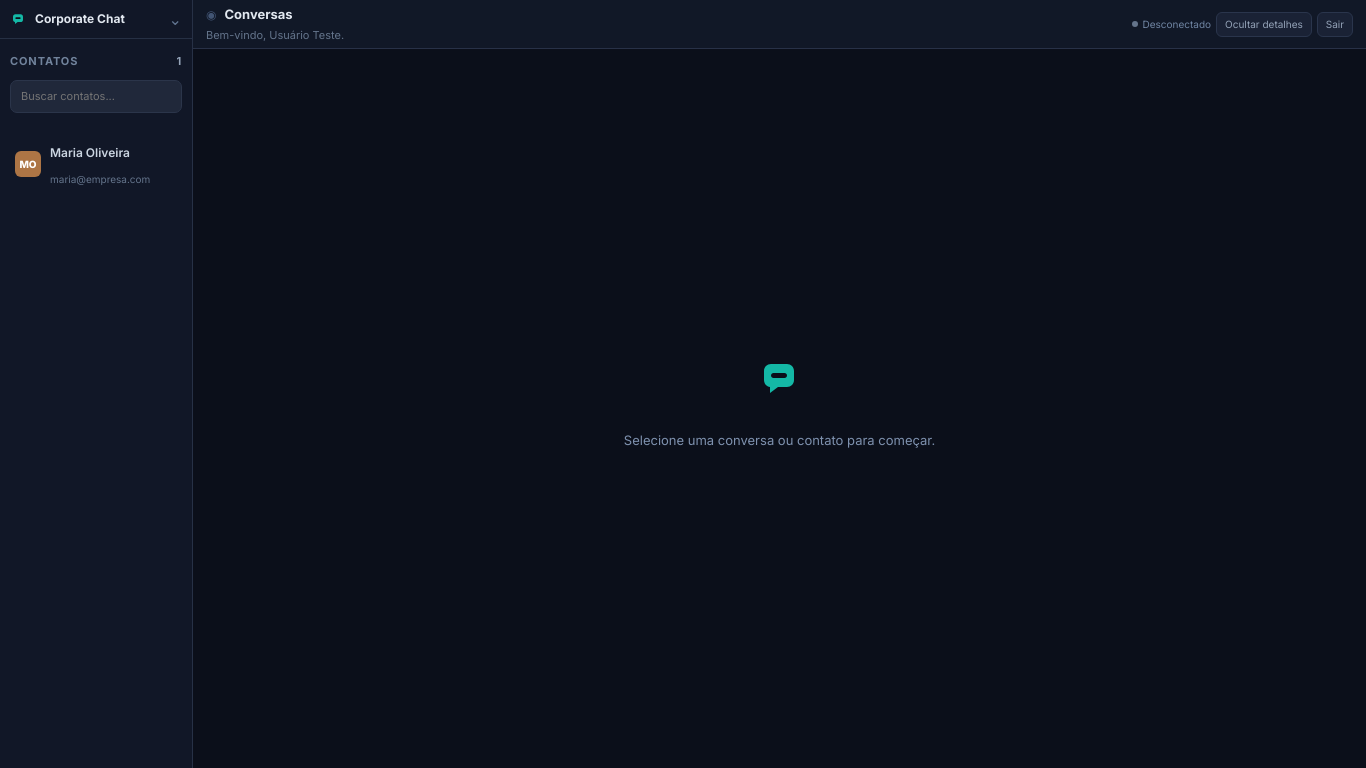
deve abrir conversa privada ao selecionar um contato
What coordinates should you click on to do the following:
click the button with aria-label "Abrir conversa com Maria Oliveira"
I would click on:
 (96, 164)
Its box is left=8, top=125, right=184, bottom=203.
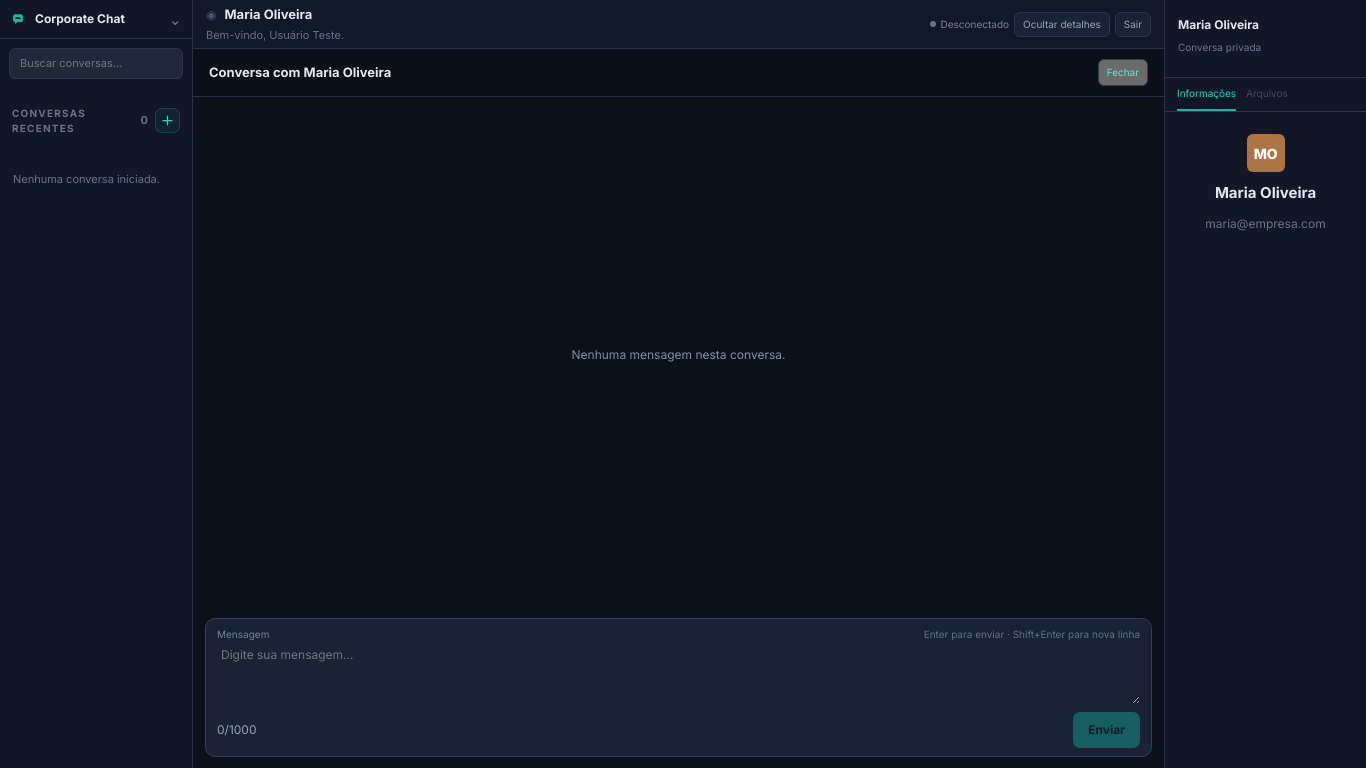
Now the heading "Conversa com Maria Oliveira" is shown, box left=209, top=63, right=391, bottom=82
